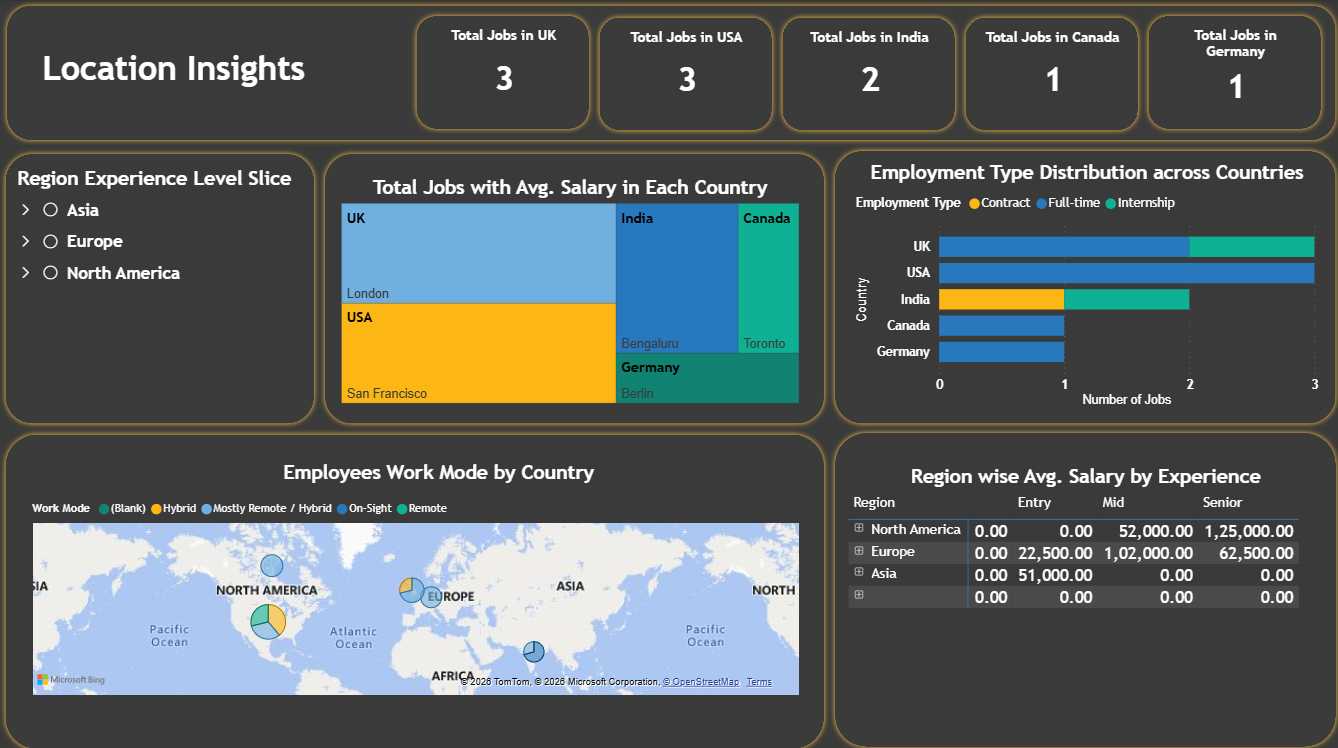

The page's visual inventory and layout, read from the dashboard file:
{"tool":"powerbi","page":{"name":"Location Insights","canvas":[1280,720],"ordinal":1},"visuals":[{"type":"shape","box":[1.4,0,1279.1,138.9],"z":0,"group":"g6"},{"type":"group","id":"g1","title":"Group 1","box":[0,141.8,305.1,267.9],"z":0},{"type":"shape","box":[0,409.7,792.1,310.8],"z":0,"group":"g5"},{"type":"textbox","box":[25.8,25.8,323.7,100.3],"z":1000,"group":"g6"},{"type":"group","id":"g2","title":"Group 3","box":[305.1,141.8,487,267.9],"z":1000},{"type":"map","title":"Employees Work Mode by Country","fields":{"Category":["Dim_Locations.Country"],"Size":["Fact_Jobs.AvgSalaryByCountry"],"Series":["Fact_Jobs.WorkMode"]},"box":[25.8,467.4,741.7,239.4],"z":1000,"group":"g5"},{"type":"group","id":"g3","title":"Group 6","box":[792.1,138.9,488.4,270.7],"z":2000},{"type":"textbox","box":[63,419.2,667.3,49.6],"z":2000,"group":"g5"},{"type":"shape","box":[792.6,408.6,488.7,310.1],"z":3000},{"type":"textbox","box":[667.3,419.8,74.5,48.2],"z":3000,"group":"g5"},{"type":"group","id":"g4","title":"Group 4","box":[1091.4,10,174.8,118.9],"z":4000,"group":"g6"},{"type":"group","id":"g5","title":"Group 2","box":[0,409.7,792.1,310.8],"z":4000},{"type":"group","id":"g6","title":"Group 7","box":[1.4,0,1279.1,138.9],"z":5000},{"type":"group","id":"g7","title":"Group 4","box":[916.7,11.5,174.8,118.9],"z":5000,"group":"g6"},{"type":"shape","box":[305.1,141.8,487,267.9],"z":5000,"group":"g2"},{"type":"group","id":"g8","title":"Group 4","box":[741.9,11.5,174.8,118.9],"z":6000,"group":"g6"},{"type":"pivotTable","title":"Region wise Avg. Salary by Experience","fields":{"Rows":["Dim_Locations.Region","Dim_Locations.Country","Dim_Locations.City"],"Values":["Fact_Jobs.AvgSalaryByCountry"],"Columns":["Fact_Jobs.Experience_Level"]},"box":[805.1,444,463.6,200.1],"z":6000},{"type":"shape","box":[392.4,10,175,118.3],"z":7000,"group":"g10"},{"type":"shape","box":[1091.4,10,175,118.3],"z":7000,"group":"g4"},{"type":"group","id":"g9","title":"Group 4","box":[567.2,11.5,174.8,118.9],"z":7000,"group":"g6"},{"type":"shape","box":[567.2,11.5,175,118.3],"z":7000,"group":"g9"},{"type":"shape","box":[741.9,11.5,175,118.3],"z":7000,"group":"g8"},{"type":"shape","box":[916.7,11.5,175,118.3],"z":7000,"group":"g7"},{"type":"shape","box":[792.1,138.9,488.4,270.7],"z":7000,"group":"g3"},{"type":"treemap","title":"Total Jobs with Avg. Salary in Each Country","fields":{"Group":["Dim_Locations.Country"],"Values":["Fact_Jobs.TotalJobs"],"Details":["Dim_Locations.City"]},"box":[320.7,167.9,446.9,222],"z":7000,"group":"g2"},{"type":"group","id":"g10","title":"Group 4","box":[392.4,10,174.8,118.9],"z":8000,"group":"g6"},{"type":"barChart","title":"Employment Type Distribution across Countries","fields":{"Category":["Dim_Locations.Country"],"Y":["CountNonNull(Fact_Jobs.Employment_Type)"],"Series":["Fact_Jobs.Employment_Type"]},"box":[812.1,152.8,451.6,240.2],"z":8000,"group":"g3"},{"type":"shape","box":[0,141.8,305.1,267.9],"z":9000,"group":"g1"},{"type":"card","title":"Total Jobs in UK","fields":{"Values":["Fact_Jobs.TotalJobs"]},"box":[408.4,25.7,145.4,79.8],"z":10000,"group":"g10"},{"type":"card","title":"Total Jobs in Germany","fields":{"Values":["Fact_Jobs.TotalJobs"]},"box":[1107.4,25.7,145.4,79.8],"z":10000,"group":"g4"},{"type":"card","title":"Total Jobs in USA","fields":{"Values":["Fact_Jobs.TotalJobs"]},"box":[583.2,27.2,145.4,79.8],"z":10000,"group":"g9"},{"type":"card","title":"Total Jobs in India","fields":{"Values":["Fact_Jobs.TotalJobs"]},"box":[757.9,27.2,145.4,79.8],"z":10000,"group":"g8"},{"type":"card","title":"Total Jobs in Canada","fields":{"Values":["Fact_Jobs.TotalJobs"]},"box":[932.7,27.2,145.4,79.8],"z":10000,"group":"g7"},{"type":"listSlicer","title":"Region Experience Level Slice","fields":{"Values":["Dim_Locations.Region","Fact_Jobs.Experience_Level","Dim_Date.YearMonth"]},"box":[10,159.5,274.5,225.8],"z":10000,"group":"g1"}]}

Visuals, with their boxes in screenshot pixels (x1, y1, x2, y2), scaled from the page's 1280x720 canvas onto the 1338x748 screenshot:
shape: [left=1, top=0, right=1337, bottom=144]
"Group 1" group: [left=0, top=147, right=319, bottom=426]
shape: [left=0, top=426, right=828, bottom=747]
textbox: [left=27, top=27, right=365, bottom=131]
"Group 3" group: [left=319, top=147, right=828, bottom=426]
"Employees Work Mode by Country" map: [left=27, top=486, right=802, bottom=734]
"Group 6" group: [left=828, top=144, right=1337, bottom=426]
textbox: [left=66, top=436, right=763, bottom=487]
shape: [left=829, top=424, right=1337, bottom=747]
textbox: [left=698, top=436, right=775, bottom=486]
"Group 4" group: [left=1141, top=10, right=1324, bottom=134]
"Group 2" group: [left=0, top=426, right=828, bottom=747]
"Group 7" group: [left=1, top=0, right=1337, bottom=144]
"Group 4" group: [left=958, top=12, right=1141, bottom=135]
shape: [left=319, top=147, right=828, bottom=426]
"Group 4" group: [left=776, top=12, right=958, bottom=135]
"Region wise Avg. Salary by Experience" pivotTable: [left=842, top=461, right=1326, bottom=669]
shape: [left=410, top=10, right=593, bottom=133]
shape: [left=1141, top=10, right=1324, bottom=133]
"Group 4" group: [left=593, top=12, right=776, bottom=135]
shape: [left=593, top=12, right=776, bottom=135]
shape: [left=776, top=12, right=958, bottom=135]
shape: [left=958, top=12, right=1141, bottom=135]
shape: [left=828, top=144, right=1337, bottom=426]
"Total Jobs with Avg. Salary in Each Country" treemap: [left=335, top=174, right=802, bottom=405]
"Group 4" group: [left=410, top=10, right=593, bottom=134]
"Employment Type Distribution across Countries" barChart: [left=849, top=159, right=1321, bottom=408]
shape: [left=0, top=147, right=319, bottom=426]
"Total Jobs in UK" card: [left=427, top=27, right=579, bottom=110]
"Total Jobs in Germany" card: [left=1158, top=27, right=1310, bottom=110]
"Total Jobs in USA" card: [left=610, top=28, right=762, bottom=111]
"Total Jobs in India" card: [left=792, top=28, right=944, bottom=111]
"Total Jobs in Canada" card: [left=975, top=28, right=1127, bottom=111]
"Region Experience Level Slice" listSlicer: [left=10, top=166, right=297, bottom=400]
